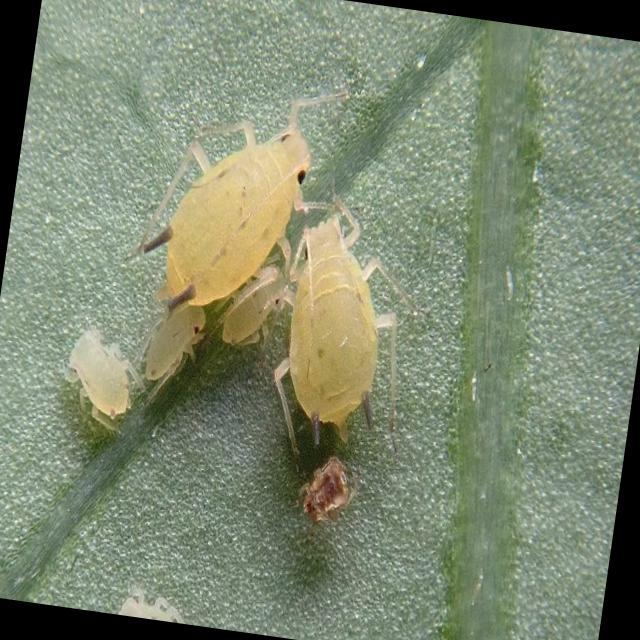Aphids: (246, 193, 422, 460), (148, 80, 323, 308), (48, 322, 153, 439), (125, 288, 217, 410)
